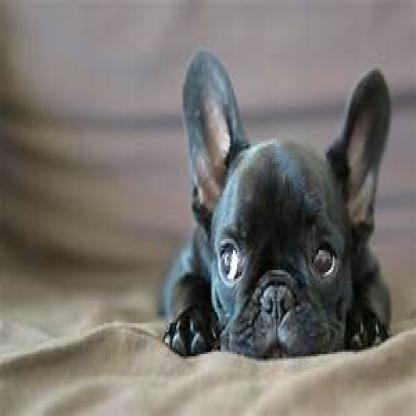dog: (165, 48, 391, 358)
